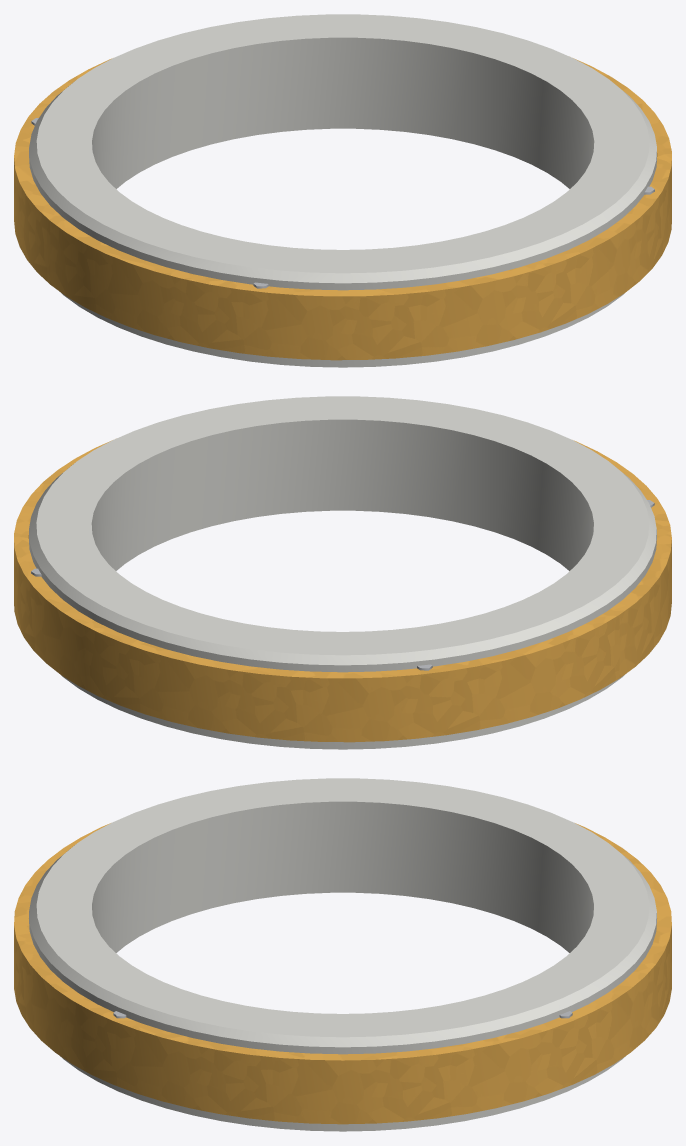
The model's file is ax_util_30_sunshade_m.glb.
3 renders of one model, top to bottom at view 1: azimuth 30°, elevation 25°; view 2: azimuth 150°, elevation 25°; view 3: azimuth 270°, elevation 25°, orthographic.
Visible parts, largest first — view 1: canister_ring, membrane_stowed; view 2: canister_ring, membrane_stowed; view 3: canister_ring, membrane_stowed.
Boxes of the visible parts, x1,y1,x2,y2 form: canister_ring: (29, 14, 656, 367); membrane_stowed: (14, 58, 671, 360); canister_ring: (29, 396, 656, 749); membrane_stowed: (14, 440, 671, 742); canister_ring: (29, 778, 656, 1131); membrane_stowed: (14, 823, 671, 1124).
Bounding box in the file's own units: 2.62 × 0.4 × 2.62.
Materials: 3 (2 with a texture image).
